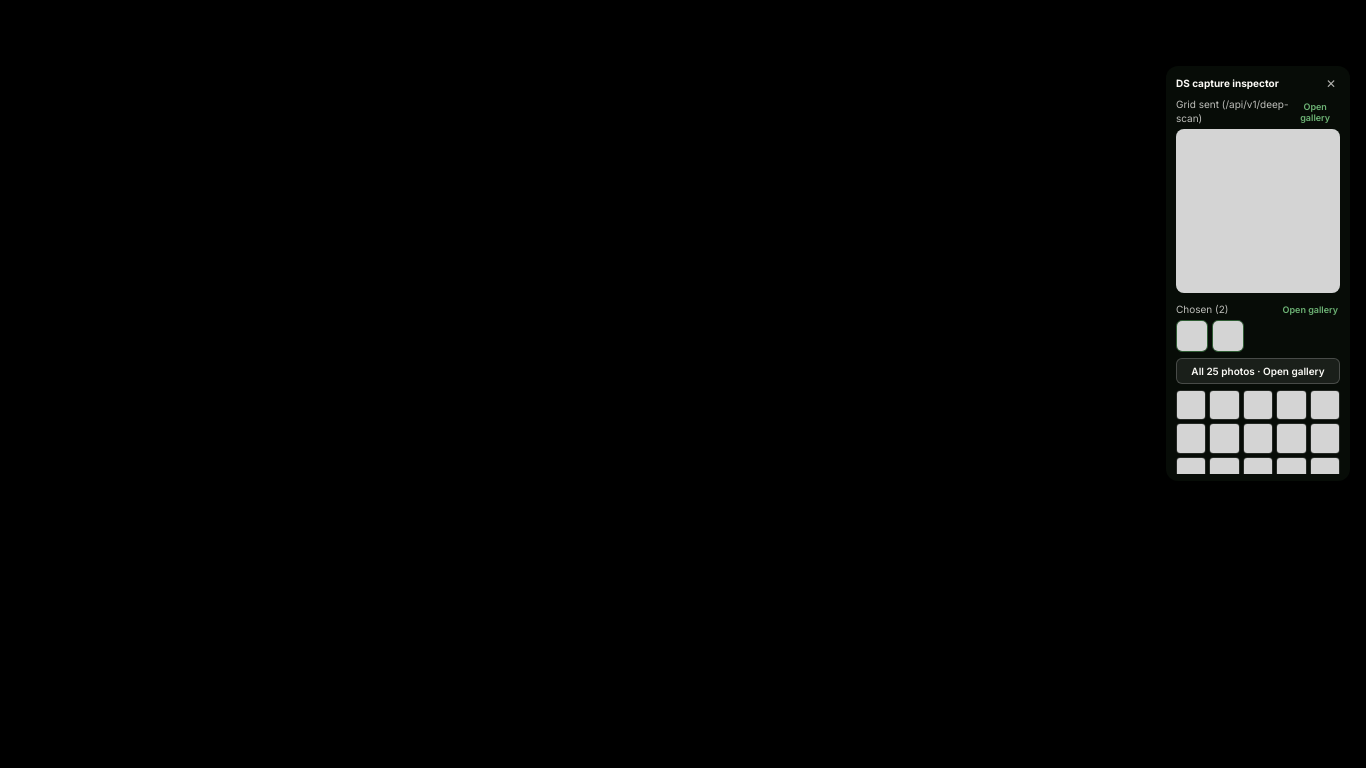
Test case: DeepScanCaptureInspector › allows opening and viewing the composite grid in the gallery
Click the button with test id "ds-inspector-view-grid-btn".
click(1315, 112)  # box [1290,100,1340,122]
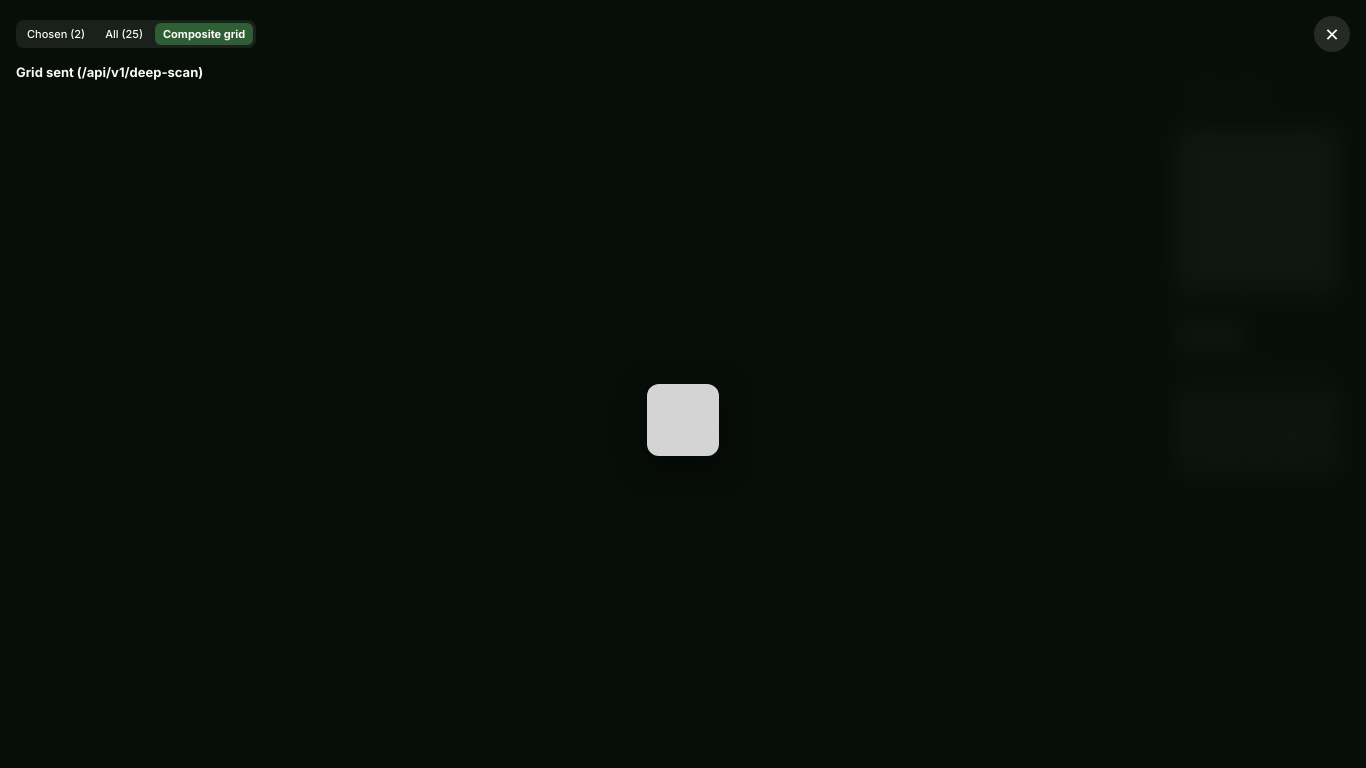
Result: the element with test id "ds-gallery-modal" is shown
Result: the text with test id "ds-gallery-title" reads "Grid sent (/api/v1/deep-scan)" at [16,64,203,80]
